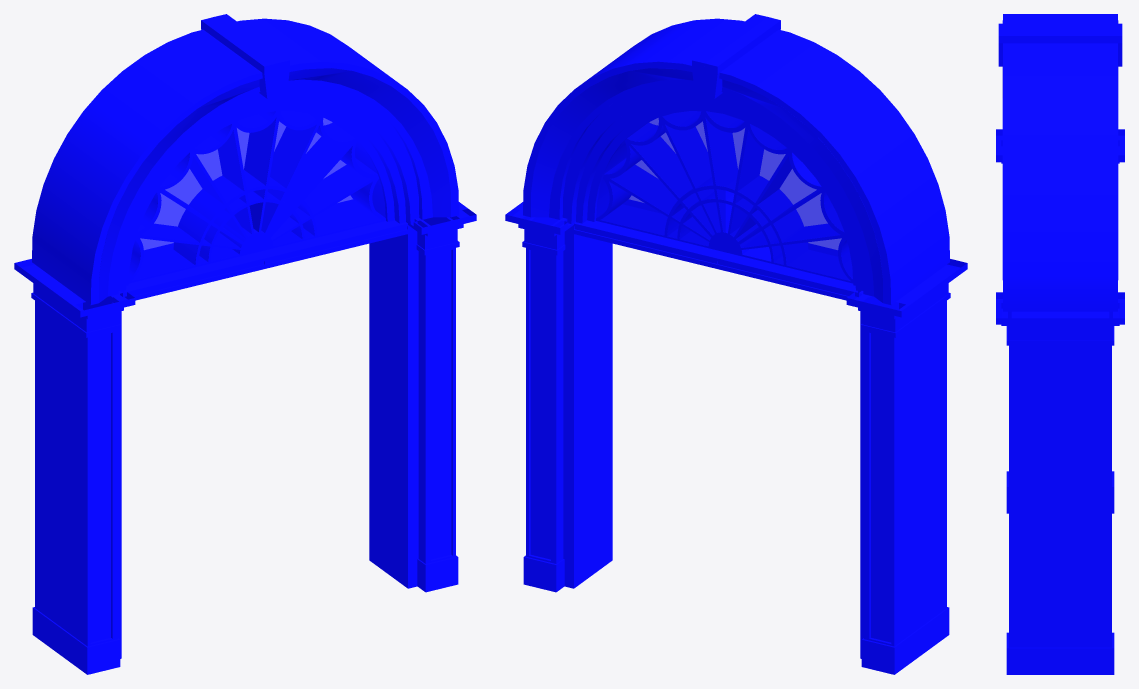
The model's file is arch.dae.
3 views of the same model, side by side, from view 1: azimuth 30°, elevation 25°; view 2: azimuth 150°, elevation 25°; view 3: azimuth 270°, elevation 25° (orthographic). The views are drawn at different scales.
Parts seen in each view (by area): view 1: Component#1_003, Component#1_001, Component#1_007, Component#1_005; view 2: Component#1_007, Component#1_005, Component#1_003, Component#1_001; view 3: Component#1_001, Component#1_005, Component#1_003, Component#1_007.
Part boxes in pixels (bbox=[...]): Component#1_003: bbox=[28, 29, 277, 674]; Component#1_001: bbox=[237, 41, 476, 592]; Component#1_007: bbox=[14, 17, 256, 668]; Component#1_005: bbox=[214, 14, 462, 588]; Component#1_007: bbox=[704, 29, 953, 674]; Component#1_005: bbox=[505, 31, 744, 592]; Component#1_003: bbox=[725, 17, 967, 668]; Component#1_001: bbox=[519, 14, 767, 588]; Component#1_001: bbox=[996, 29, 1098, 674]; Component#1_005: bbox=[1030, 29, 1124, 674]; Component#1_003: bbox=[996, 14, 1075, 513]; Component#1_007: bbox=[1068, 14, 1124, 513].
Bounding box in the file's own units: 101 × 139 × 29.25.
